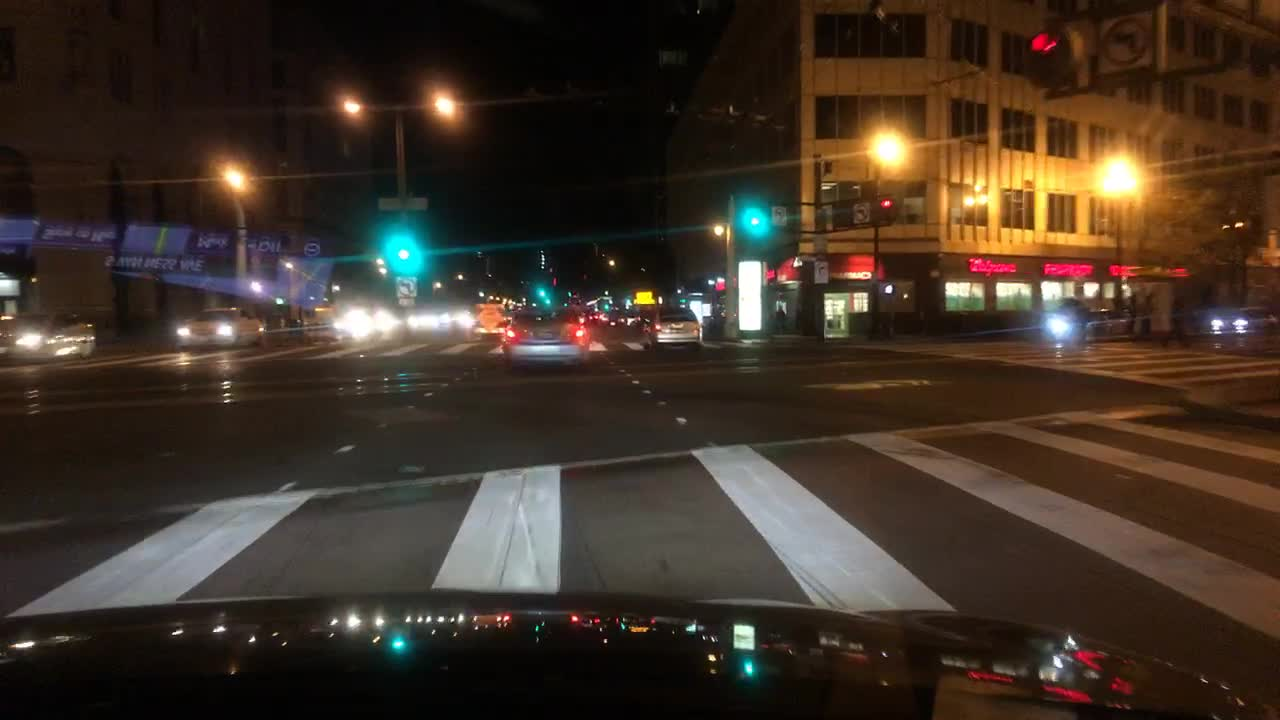car: (501, 306, 591, 371), (0, 310, 99, 361), (177, 306, 267, 350), (636, 304, 706, 351), (334, 305, 399, 341), (1083, 305, 1127, 345), (1036, 311, 1080, 341), (1206, 314, 1250, 335), (602, 314, 628, 336), (620, 308, 646, 329), (586, 311, 610, 325)
person: (1161, 294, 1194, 348), (1140, 290, 1155, 336), (773, 303, 786, 331)
traffic light: (1030, 23, 1076, 98), (877, 191, 894, 227), (746, 200, 761, 230), (396, 232, 410, 260), (877, 280, 894, 297), (539, 281, 546, 296)
traffic sign: (1099, 9, 1159, 73), (469, 301, 506, 334), (379, 195, 431, 212), (850, 200, 873, 225), (394, 278, 417, 299), (771, 205, 789, 229), (814, 260, 831, 285)
